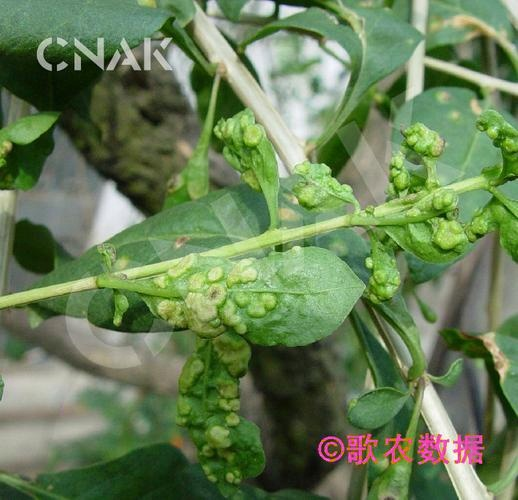Gall_Mite: (204, 103, 518, 286), (75, 237, 273, 485)
